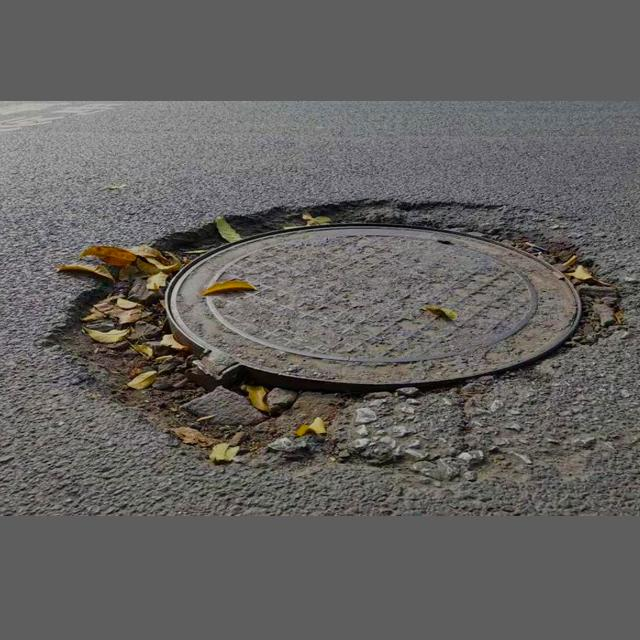circle: (60, 197, 640, 470)
